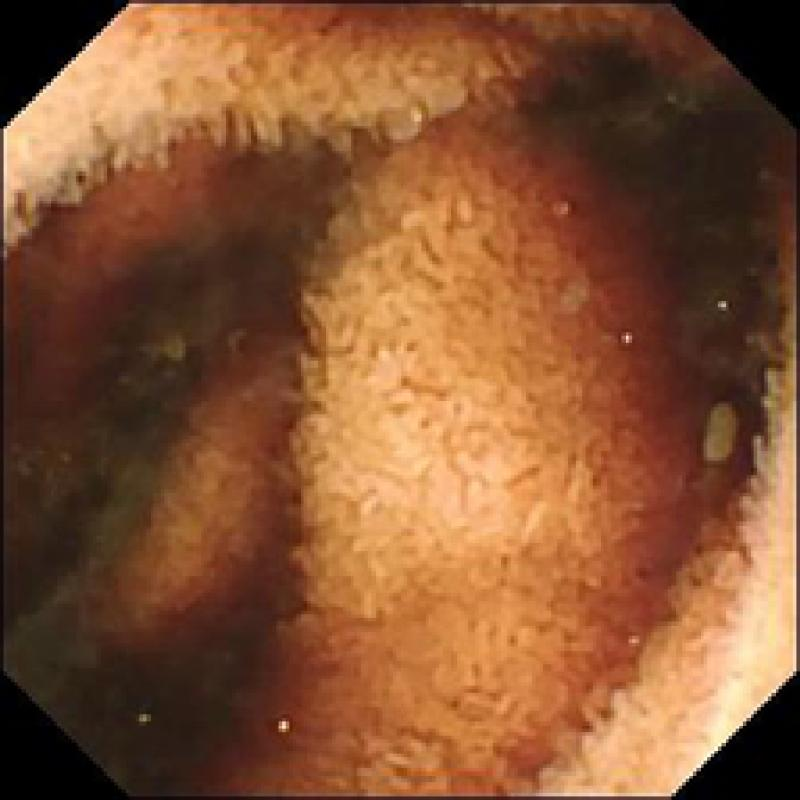bleeding: (520, 131, 694, 713), (50, 107, 286, 339)
